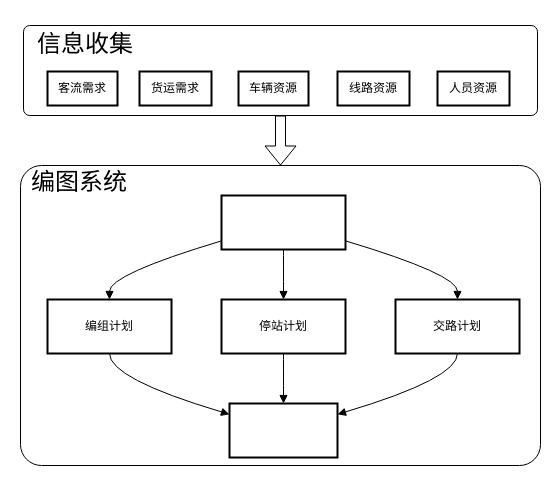
Image size: 558x483. Some labels were removed from this diagram. The shapes that lost their labels are listed below. From the top down, each one's centre as x and y in pixels, then its label:
(x=283, y=222): 开行方案
(x=283, y=430): 基本图
